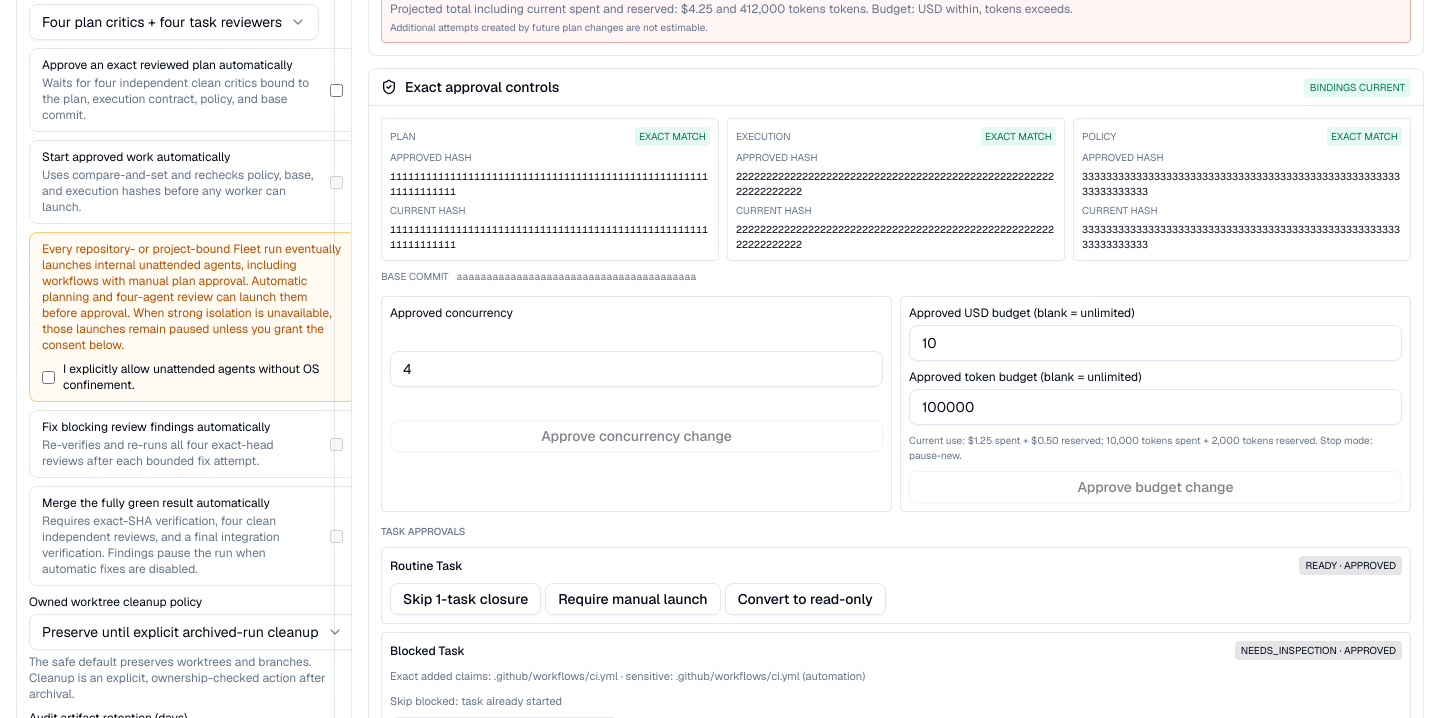
Scenario: FleetManagementView status drilldowns › retains consent when switching a target-bound run to manual planning
This screenshot has width=1440, height=718.
(page scrolled)
Click the checkbox named "Allow unconfined unattended agents": point(48, 377) x1=42 y1=370 x2=55 y2=384
(page scrolled)
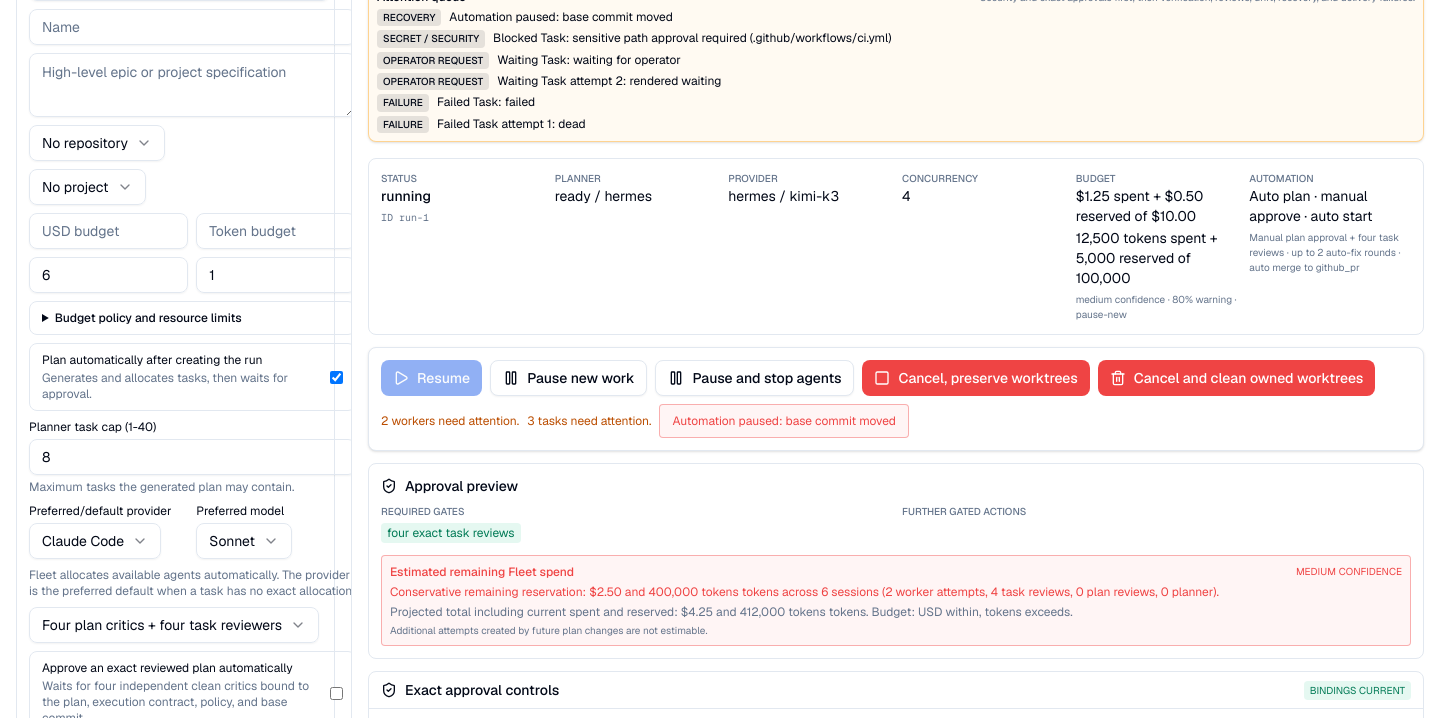
Click the checkbox labelled "Plan automatically": point(336, 377) x1=330 y1=370 x2=342 y2=384
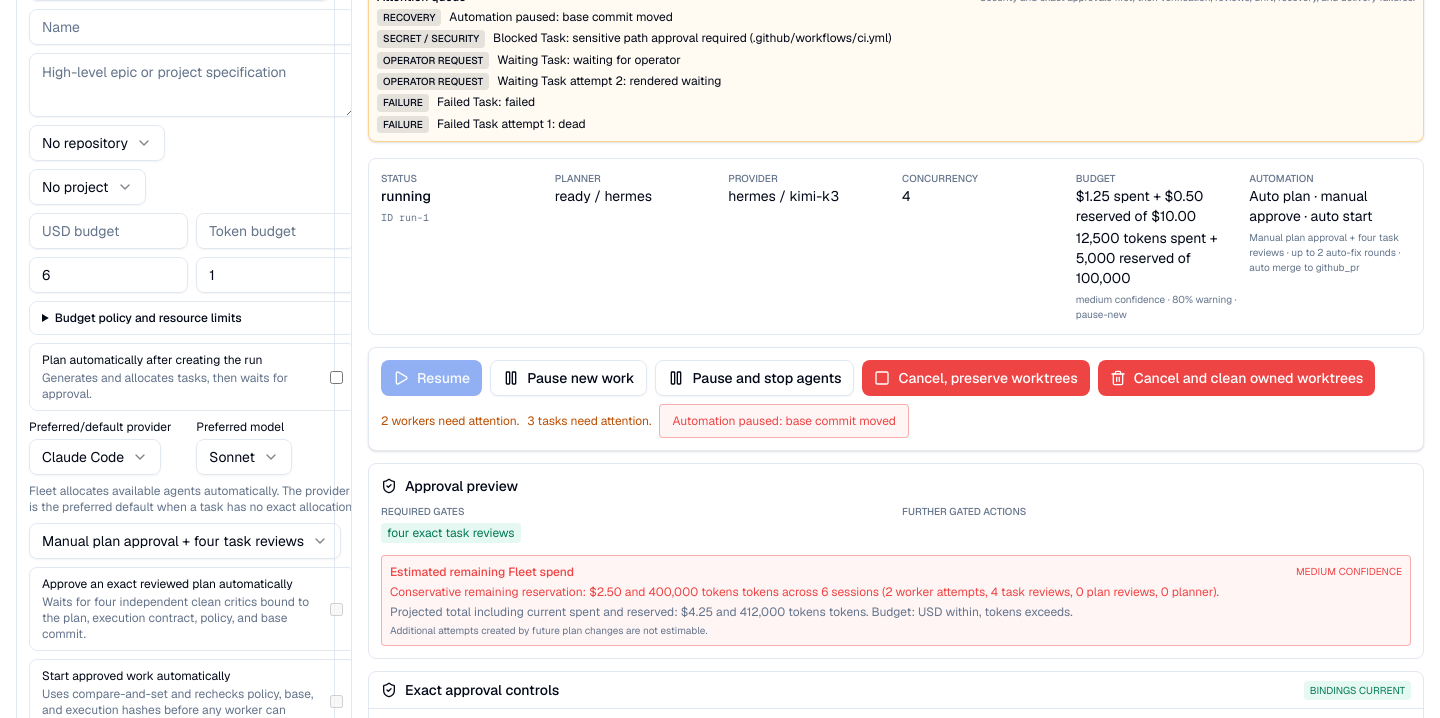
Click the dropdown labelled "repository": point(97, 143) x1=29 y1=125 x2=165 y2=161
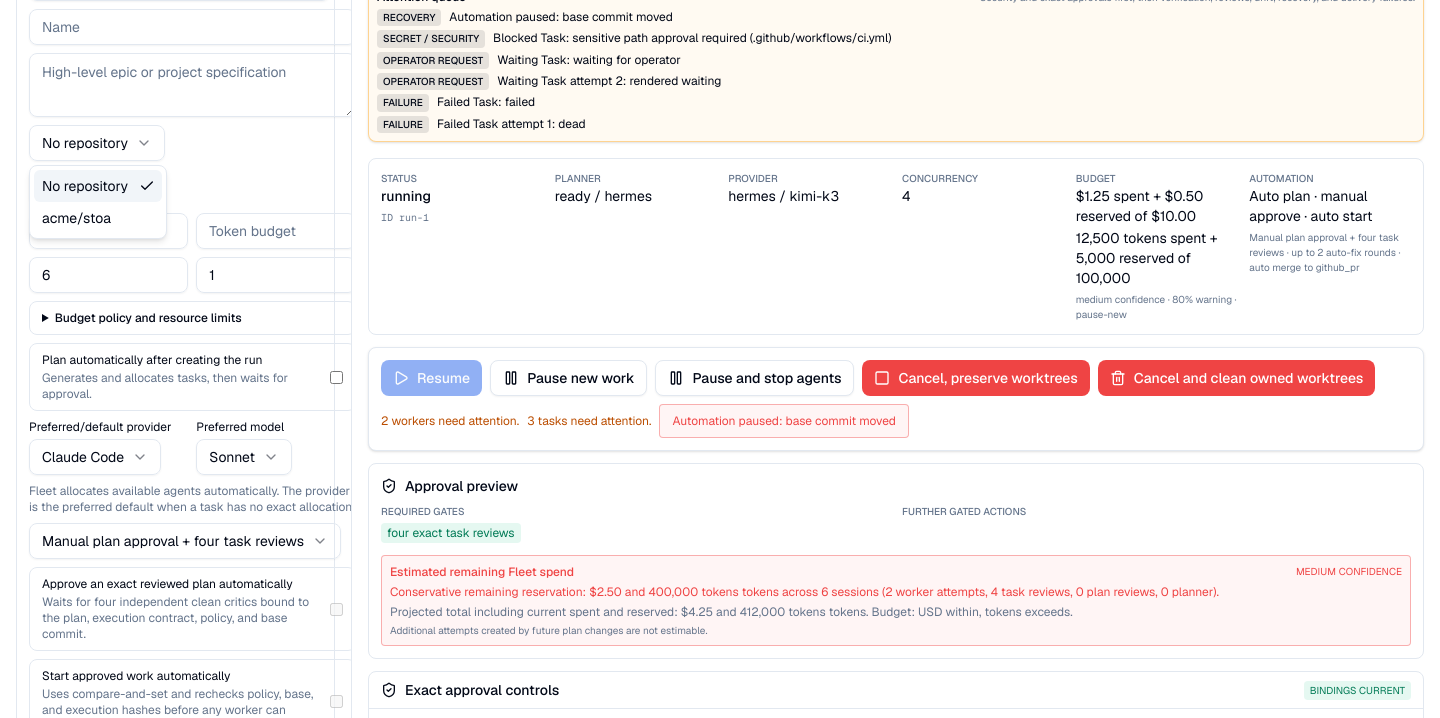
Click the option "acme/stoa": point(76, 218) x1=42 y1=209 x2=111 y2=227
(page scrolled)
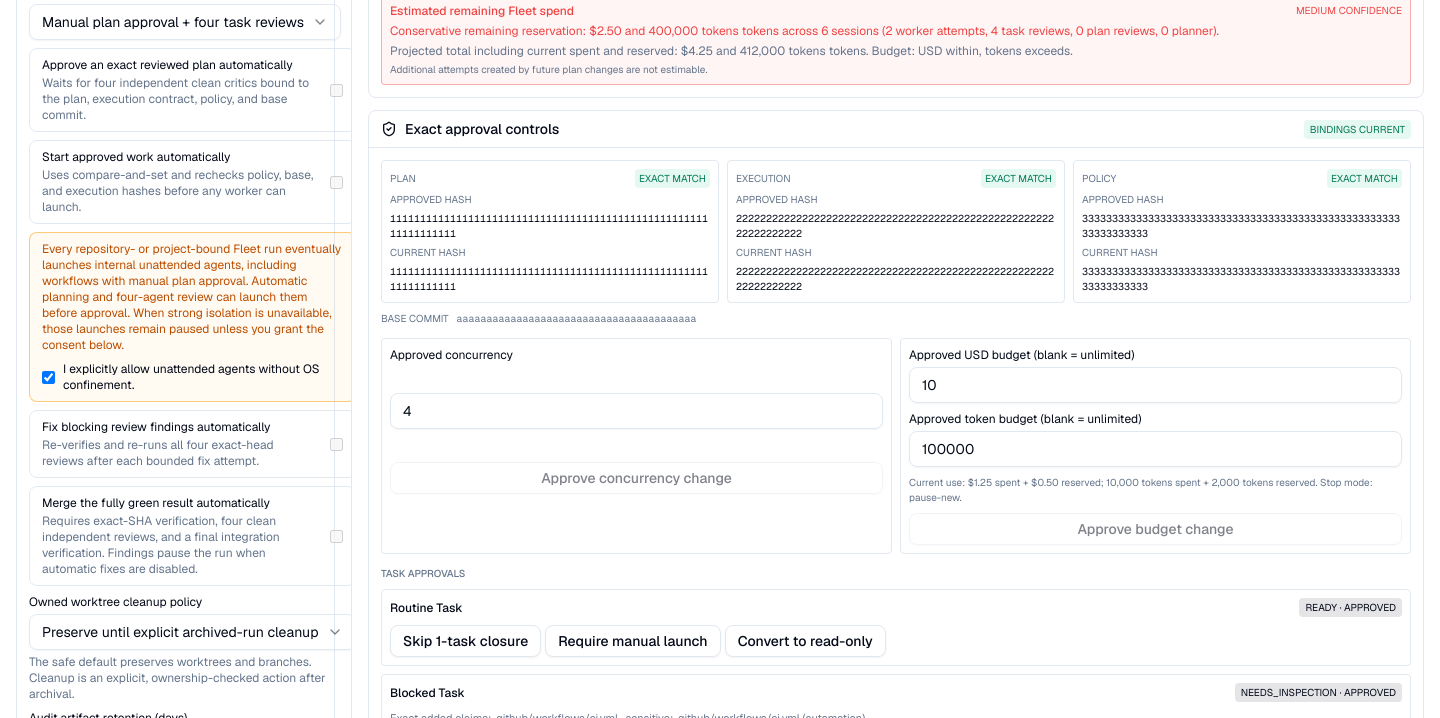
Result: the checkbox named "Allow unconfined unattended agents" is checked at x1=42 y1=370 x2=55 y2=384
